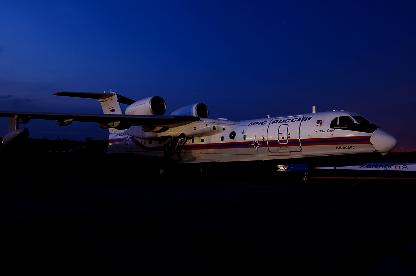B52: (0, 87, 398, 183)
